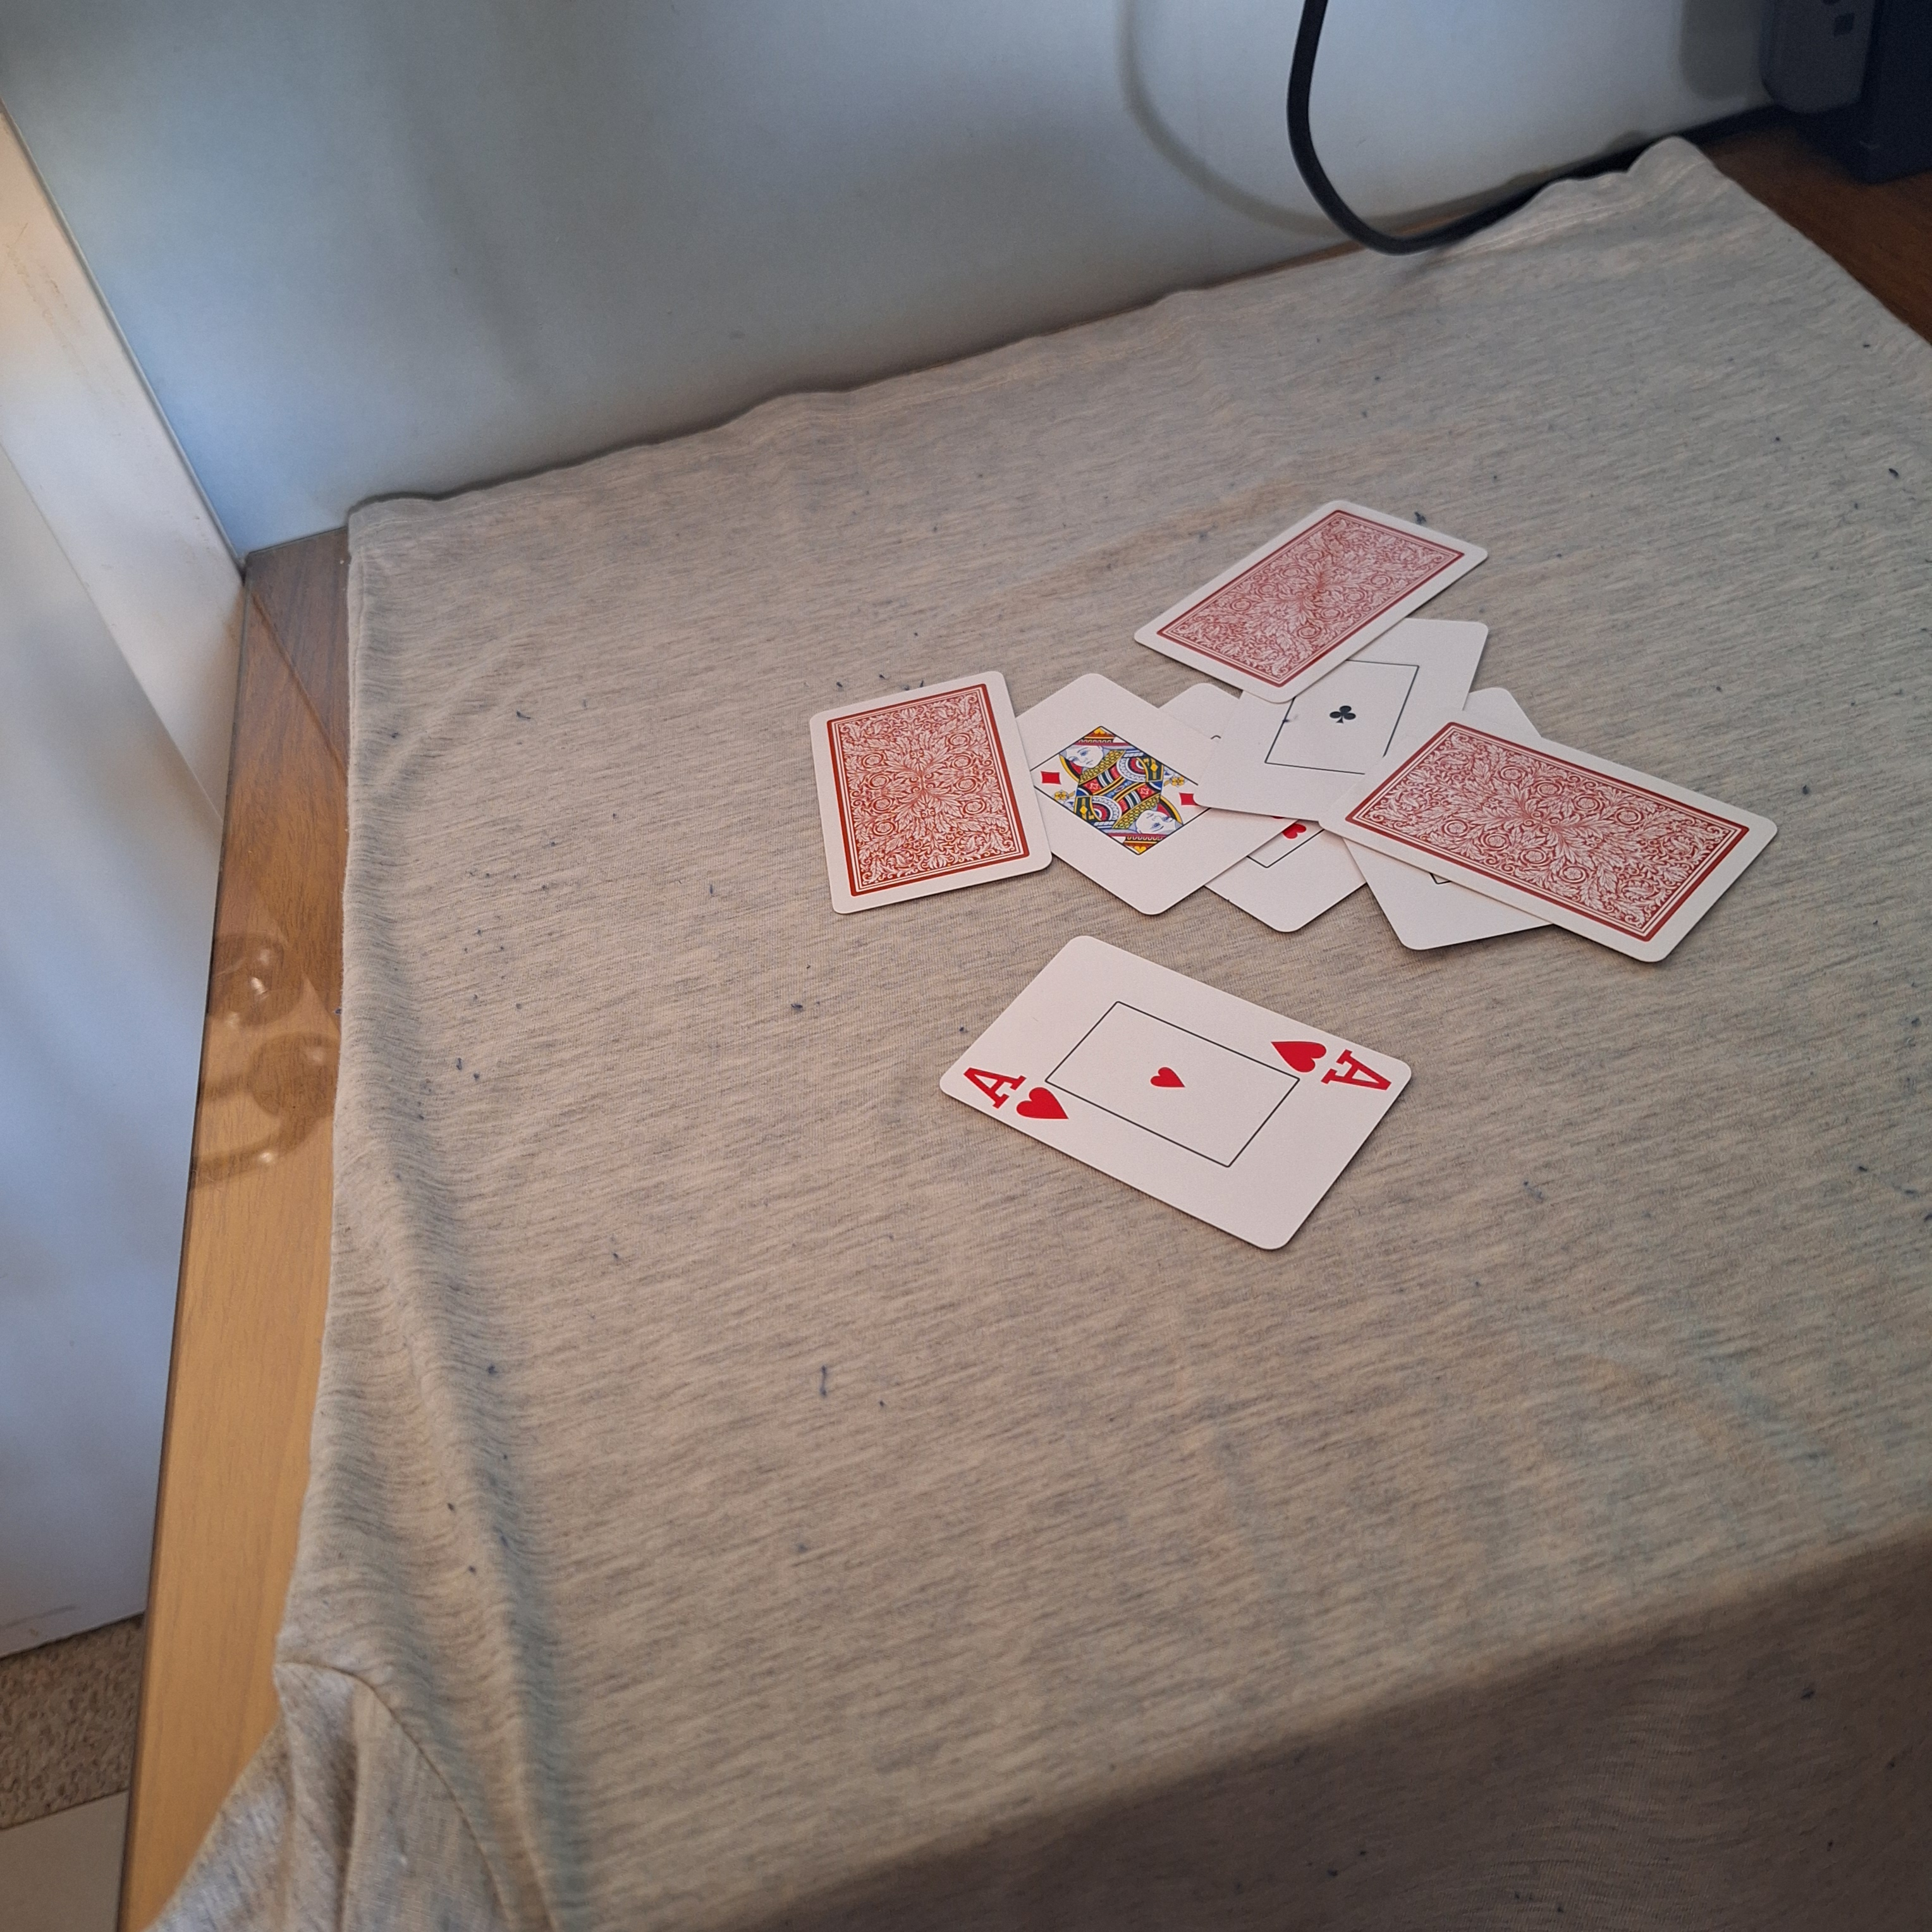AC: (1263, 1026, 1394, 1102), (957, 1058, 1077, 1134)
